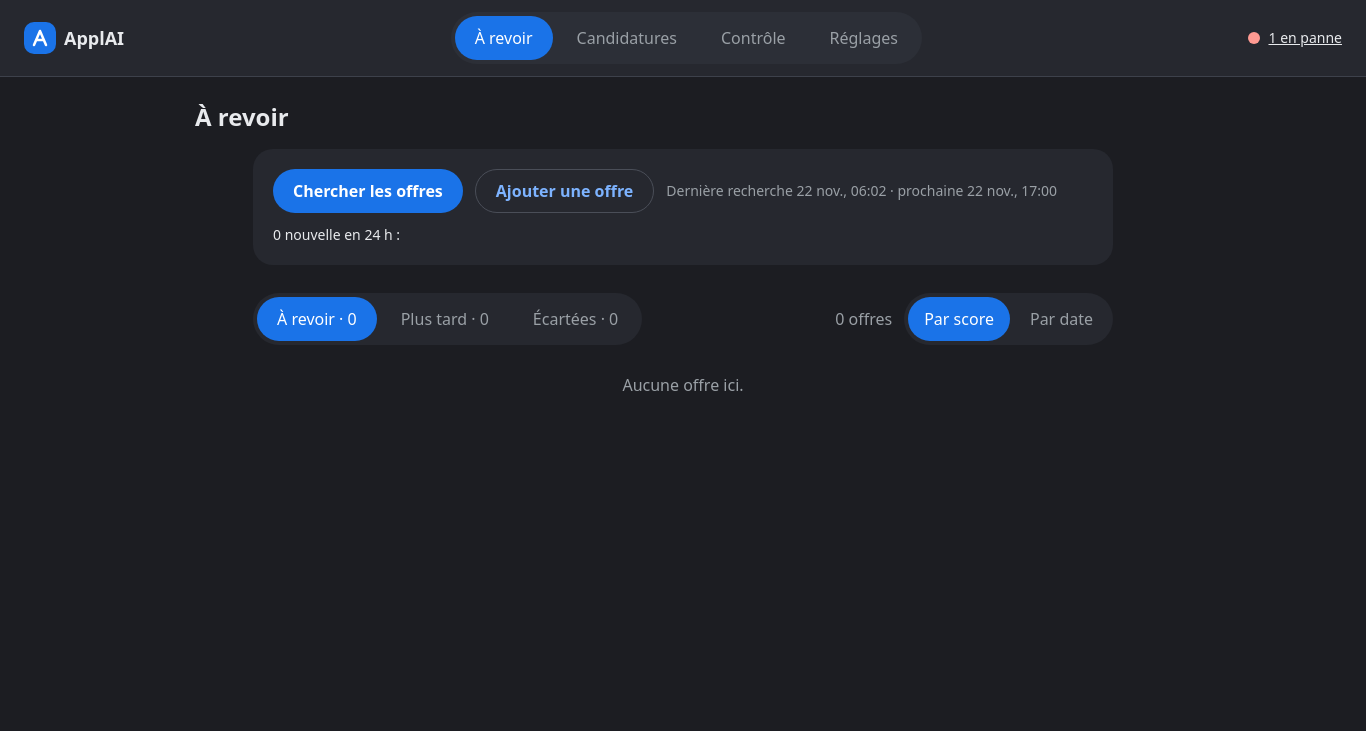
the header's services chip › is red with one red service and one orange, counts and names the red one and leads to Réglages
Click the link "1 en panne": (1295, 38) [1248,28,1342,47]
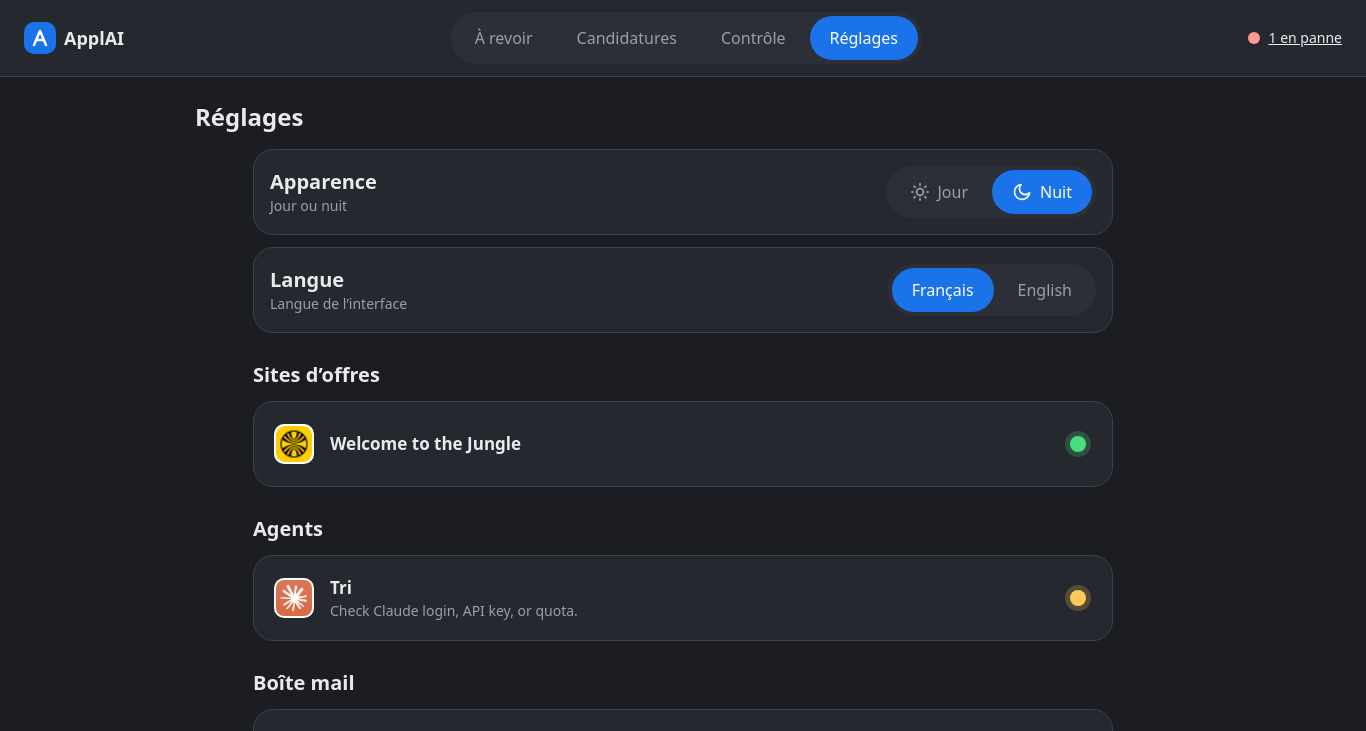
Expected: the heading "Réglages" is shown, [195,100,303,133]
